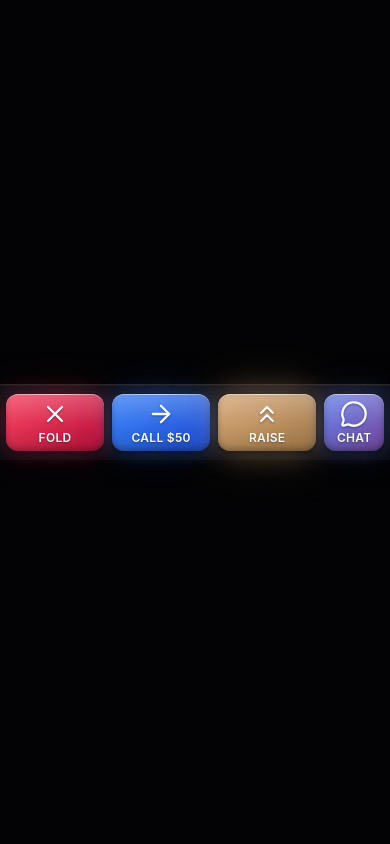
Test: VT-02: MobileActionButtons raise sheet — calculations and interactions › slider changes the raise amount
Click the button "Raise" at (267, 422), box x1=218 y1=394 x2=316 y2=451
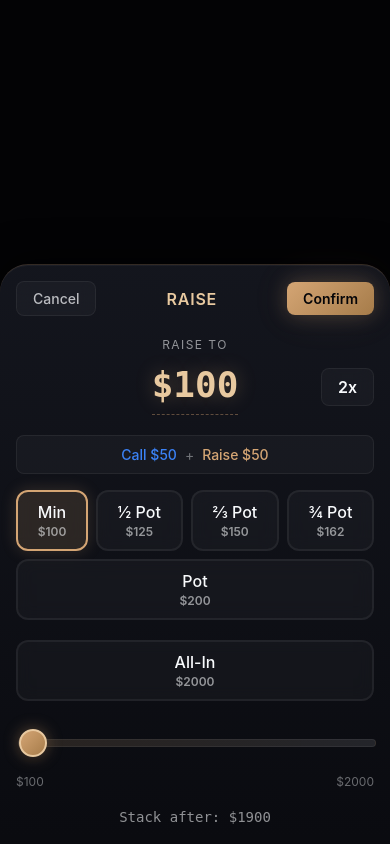
Check: the slider with class "raise-slider" is shown
// Change slider value
Set the slider with class "raise-slider" to "500" at (98, 743), box x1=18 y1=723 x2=376 y2=763
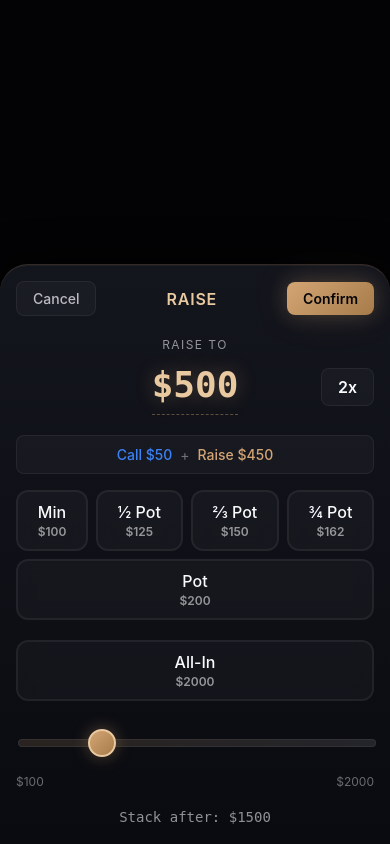
Check: the button with class "amount-value" is shown, box x1=152 y1=358 x2=238 y2=415
Check: the element with class "amount-value" no longer shows "$100"
